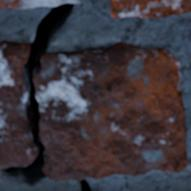brick: (111, 0, 190, 17), (0, 0, 78, 8)
broken_brick: (35, 41, 188, 181), (0, 39, 34, 168)
crack: (0, 2, 75, 188), (74, 178, 93, 190)
